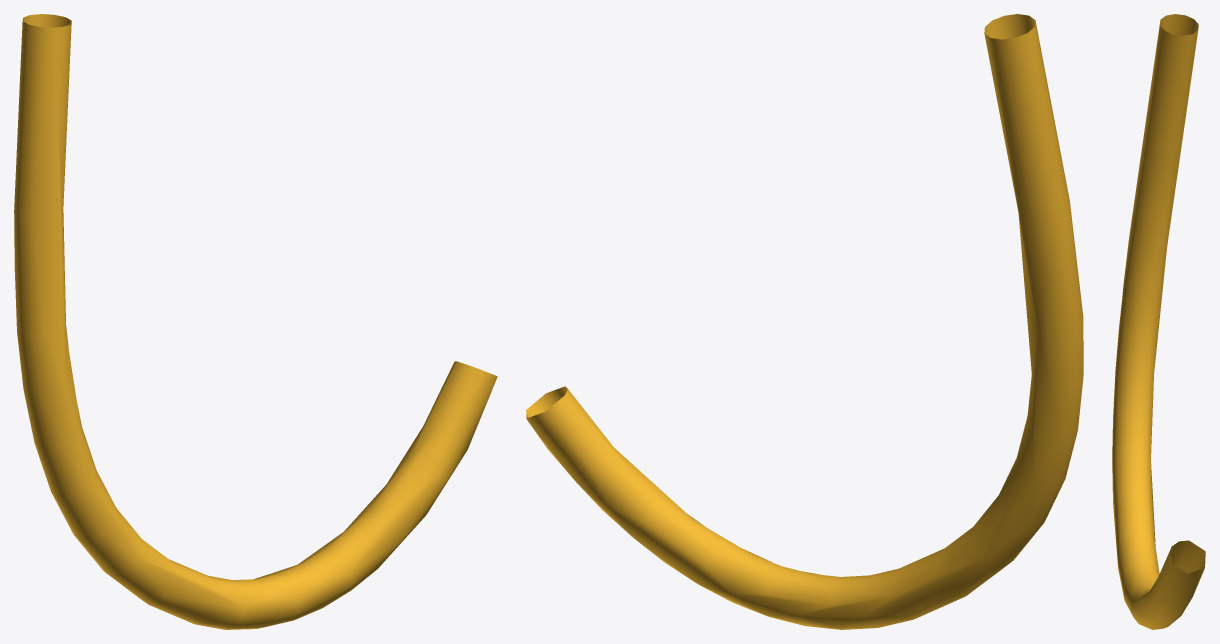
The model's file is nervoso-communicating-branch-of-median-nerve-with-ulnar-nerve-r.glb.
The picture shows the model from 3 angles, left to right: view 1: azimuth 30°, elevation 25°; view 2: azimuth 150°, elevation 25°; view 3: azimuth 270°, elevation 25°; orthographic projection. The views are drawn at different scales.
Parts seen in each view (by area): view 1: (Communicating branch of median nerve with ulnar nerve).r; view 2: (Communicating branch of median nerve with ulnar nerve).r; view 3: (Communicating branch of median nerve with ulnar nerve).r.
Boxes of the visible parts, x1=… form: (Communicating branch of median nerve with ulnar nerve).r: x1=14, y1=14, x2=497, y2=629; (Communicating branch of median nerve with ulnar nerve).r: x1=526, y1=14, x2=1083, y2=629; (Communicating branch of median nerve with ulnar nerve).r: x1=1112, y1=14, x2=1205, y2=629.
Size of the model in its own units: 0.0114 by 0.014 by 0.00233.
